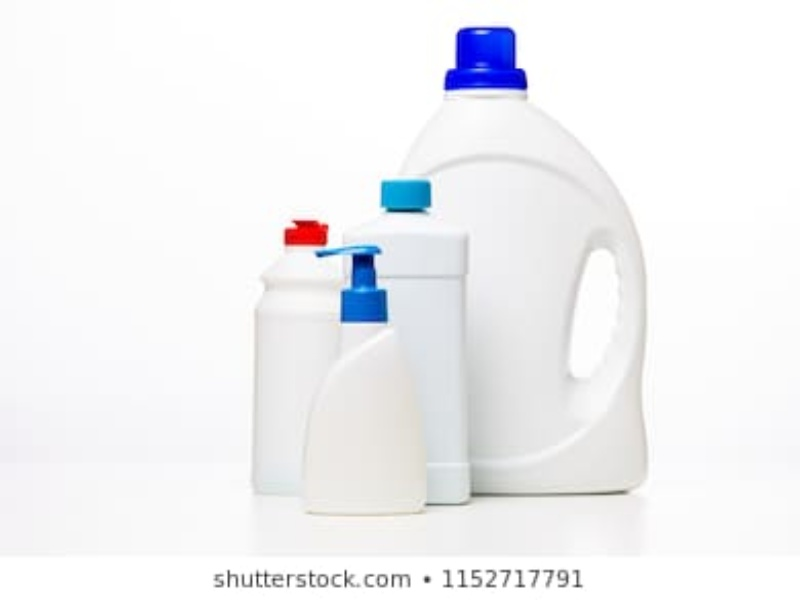bottle-cap: (431, 25, 539, 95), (374, 179, 434, 210)
detergent-bottle: (386, 23, 669, 501), (344, 173, 482, 511), (250, 219, 375, 497), (307, 244, 422, 519)
